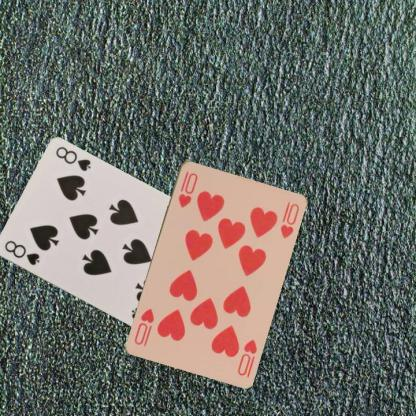10h: (175, 168, 199, 209), (235, 336, 258, 377)
8s: (1, 237, 41, 267)
